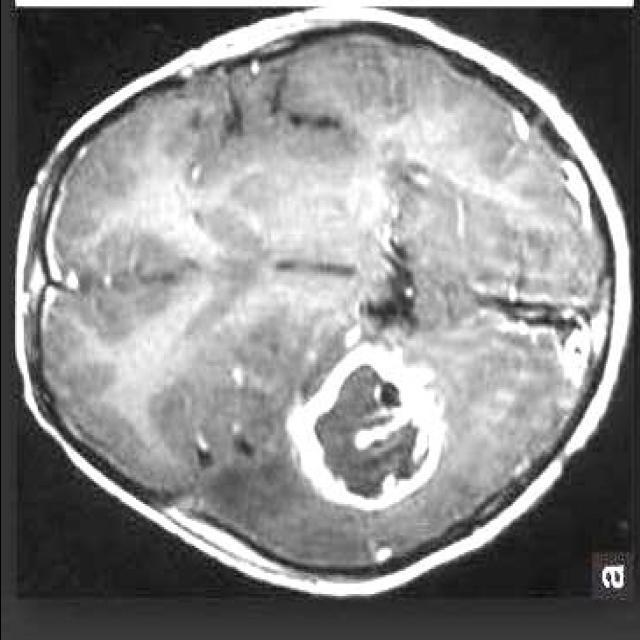tumor: (282, 339, 444, 512)
